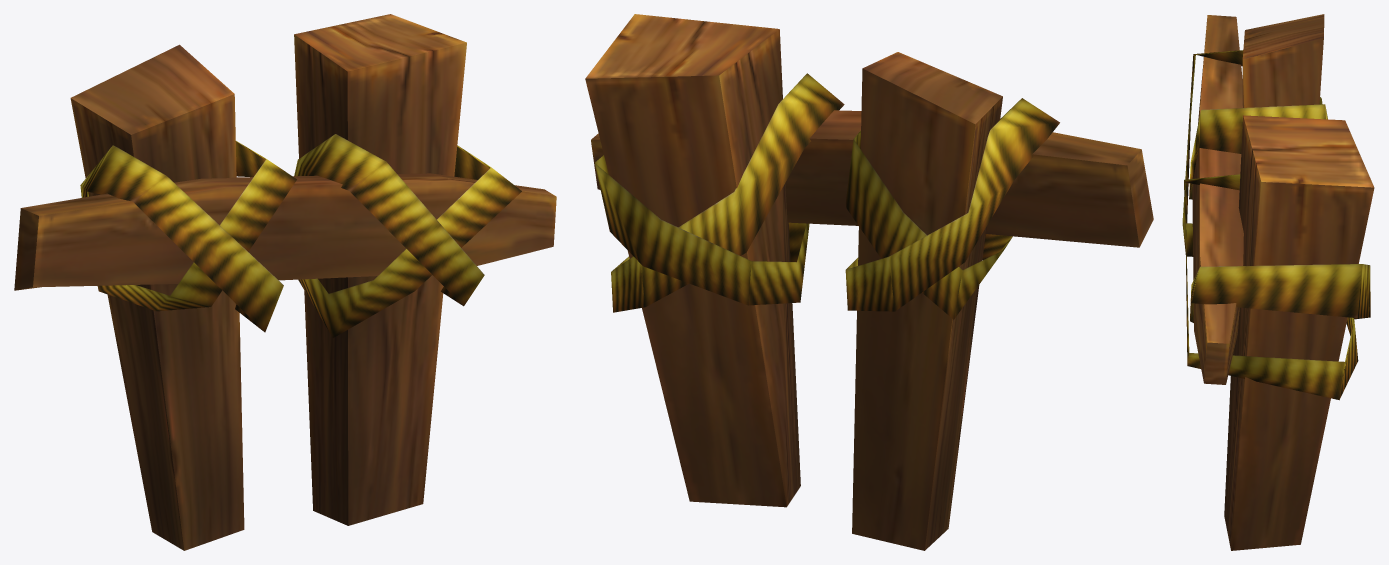
File: Zhalan02.FBX
The picture shows the model from 3 angles, left to right: view 1: azimuth 30°, elevation 25°; view 2: azimuth 150°, elevation 25°; view 3: azimuth 270°, elevation 25°; orthographic projection. The views are drawn at different scales.
Parts seen in each view (by area): view 1: 对象001; view 2: 对象001; view 3: 对象001.
Boxes of the visible parts, x1,y1,x2,y2 form: 对象001: (14, 14, 556, 550); 对象001: (585, 14, 1153, 550); 对象001: (1182, 14, 1374, 550).
Size of the model in its own units: 5.52 by 4.68 by 1.9.
